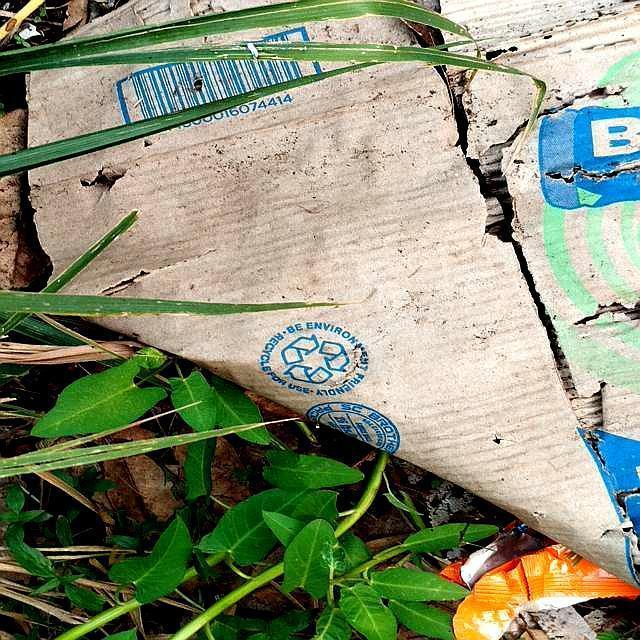Biodegradable: (27, 1, 640, 585)
